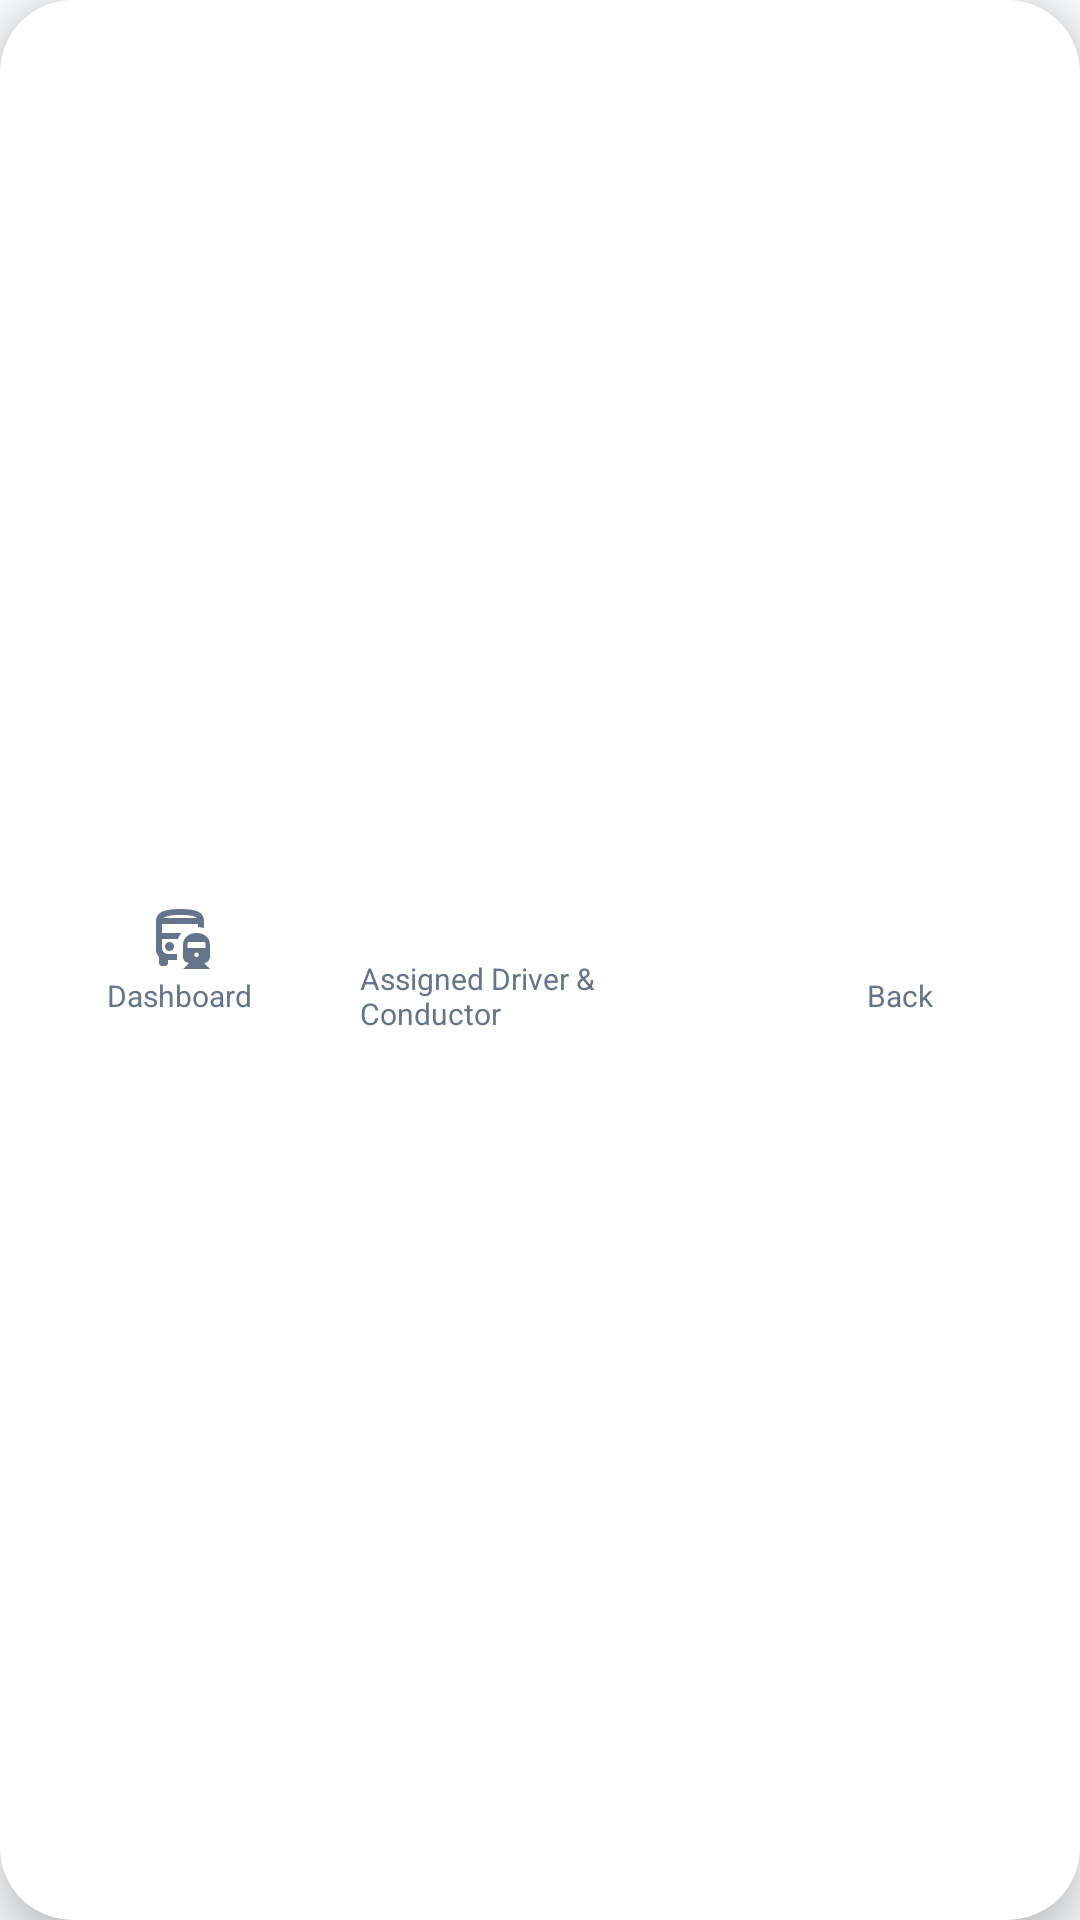

Screen size 1080×1920. Icon name, then its center in pixels as [x,y]:
bus railway: [183,939]
